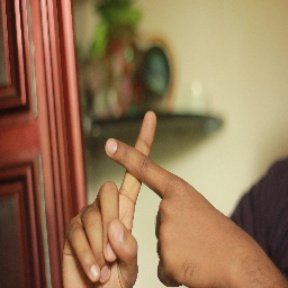X: (75, 97, 207, 236)
